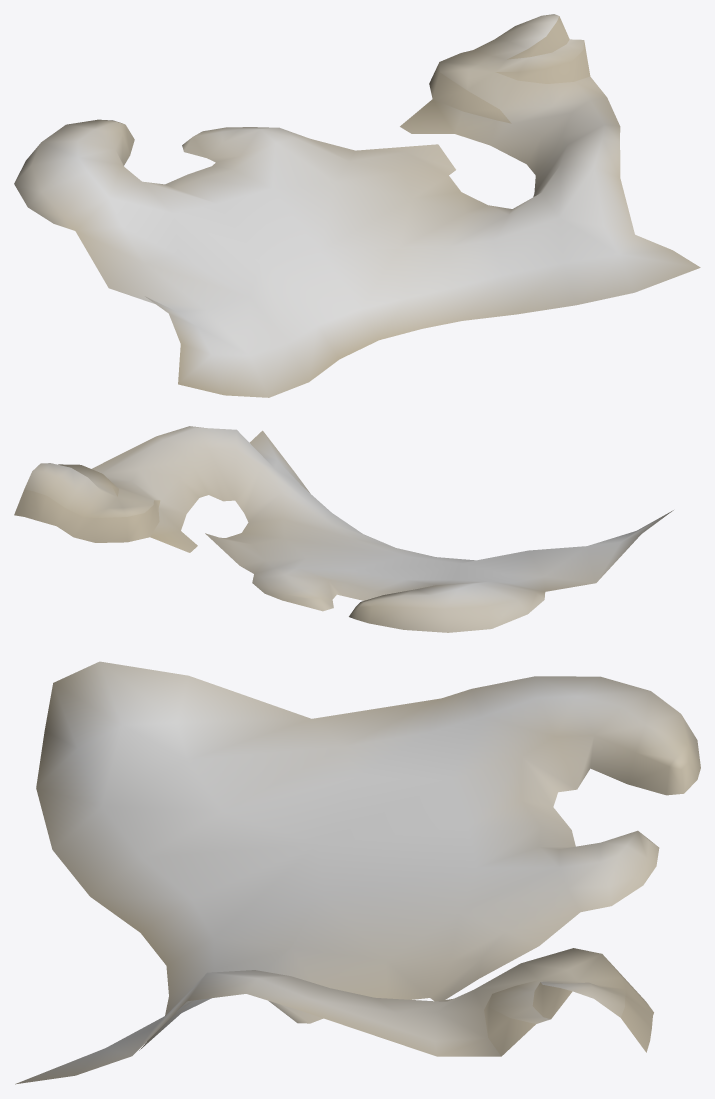
File: RaveCaveSandMesh.glb
3 renders of one model, top to bottom at view 1: azimuth 30°, elevation 25°; view 2: azimuth 150°, elevation 25°; view 3: azimuth 270°, elevation 25°, orthographic. The views are drawn at different scales.
Parts seen in each view (by area): view 1: RaveCaveSandMesh; view 2: RaveCaveSandMesh; view 3: RaveCaveSandMesh.
Boxes of the visible parts, <box> form: RaveCaveSandMesh: <box>14,14,700,397</box>; RaveCaveSandMesh: <box>14,426,673,632</box>; RaveCaveSandMesh: <box>15,661,700,1084</box>.
Size of the model in its own units: 10.06 by 2.33 by 7.3.
